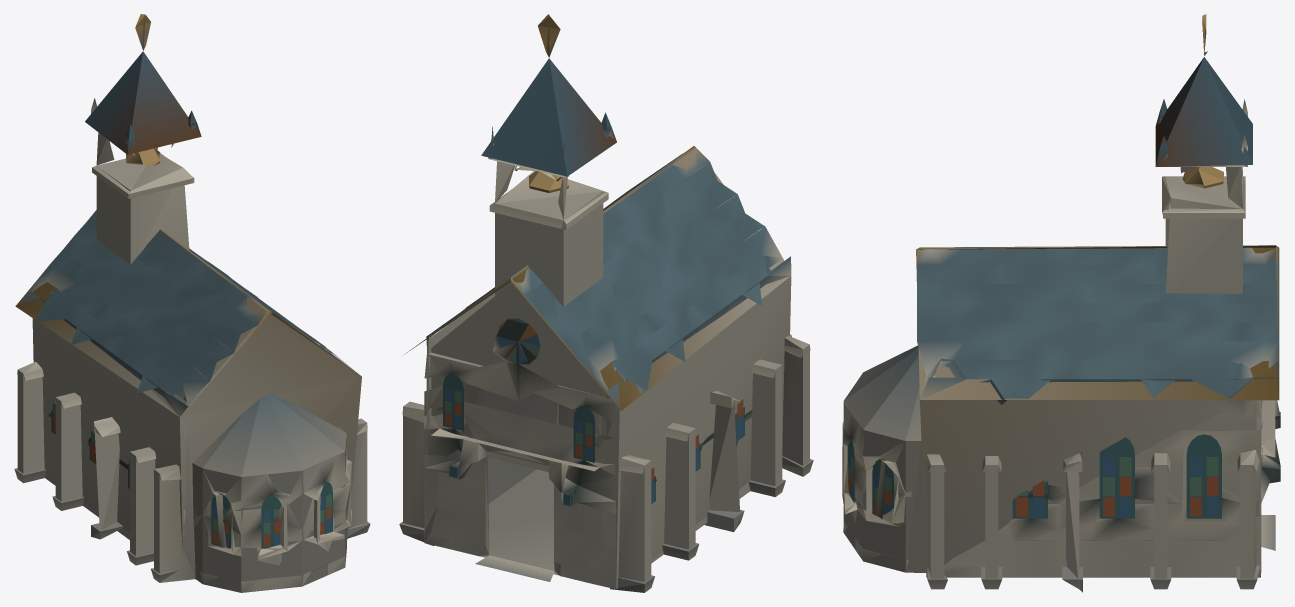
The model's file is Church.glb.
The picture shows the model from 3 angles, left to right: view 1: azimuth 30°, elevation 25°; view 2: azimuth 150°, elevation 25°; view 3: azimuth 270°, elevation 25°; orthographic projection. The views are drawn at different scales.
Parts seen in each view (by area): view 1: Church_P0_LOD1, ChurchGlass_P0_LOD1; view 2: Church_P0_LOD1, ChurchGlass_P0_LOD1; view 3: Church_P0_LOD1, ChurchGlass_P0_LOD1.
Boxes of the visible parts, <box> form: Church_P0_LOD1: <box>14,14,370,592</box>; ChurchGlass_P0_LOD1: <box>51,403,348,548</box>; Church_P0_LOD1: <box>399,14,813,592</box>; ChurchGlass_P0_LOD1: <box>443,318,744,505</box>; Church_P0_LOD1: <box>842,14,1280,592</box>; ChurchGlass_P0_LOD1: <box>847,434,1274,518</box>.
Size of the model in its own units: 7.31 by 15.17 by 11.59.
